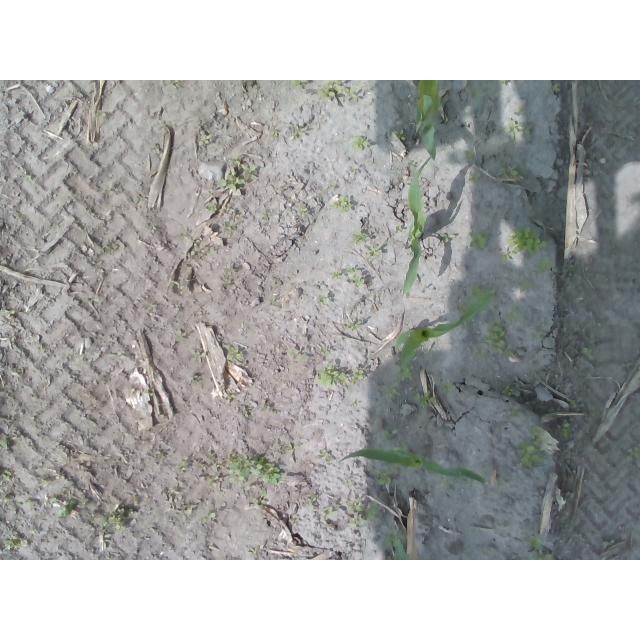Maize: (393, 289, 498, 370), (339, 443, 490, 486), (402, 174, 427, 295), (416, 82, 445, 163), (388, 525, 413, 560)
Weeds: (227, 453, 282, 491), (500, 227, 548, 261), (215, 157, 258, 193), (486, 319, 518, 357), (516, 426, 544, 467), (316, 364, 365, 387), (318, 80, 359, 105), (345, 498, 379, 527), (44, 496, 76, 518), (98, 508, 126, 533), (503, 122, 533, 143), (528, 536, 553, 561), (3, 527, 21, 552), (469, 231, 491, 249), (496, 165, 525, 178), (328, 194, 350, 211), (556, 421, 575, 440), (348, 266, 364, 286), (383, 385, 401, 402), (414, 391, 430, 410), (375, 472, 393, 488), (284, 441, 305, 453), (225, 345, 240, 361), (400, 367, 416, 382), (190, 239, 202, 258), (353, 135, 368, 150), (625, 446, 640, 461), (391, 128, 407, 141), (496, 384, 513, 396), (440, 382, 457, 394), (462, 151, 475, 166), (539, 258, 552, 273), (384, 428, 399, 441), (198, 130, 210, 146), (0, 307, 18, 317), (351, 232, 369, 242), (220, 223, 236, 234), (206, 476, 219, 489), (466, 174, 480, 185), (581, 345, 592, 359), (306, 496, 318, 508), (174, 461, 187, 472), (346, 319, 359, 330), (110, 352, 127, 360), (292, 126, 304, 137), (0, 496, 14, 505), (2, 471, 13, 482), (406, 160, 419, 169), (319, 348, 333, 356), (552, 83, 562, 94), (367, 249, 379, 258), (208, 203, 218, 213), (208, 512, 219, 521), (570, 400, 579, 411), (0, 438, 8, 450), (290, 80, 306, 86), (191, 351, 201, 360), (300, 207, 309, 217), (24, 175, 33, 185), (334, 272, 342, 281), (318, 296, 327, 304), (270, 129, 279, 137), (498, 80, 510, 85)
